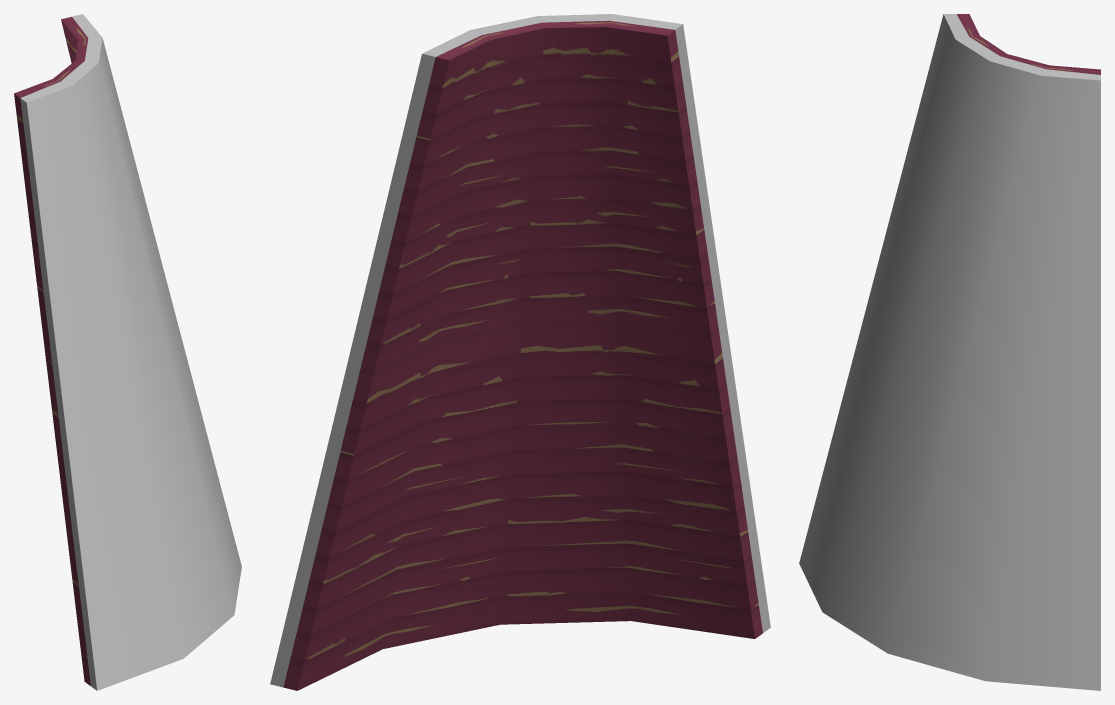
The model's file is SM_Bld_Wall_Curved_M_Transition_01.fbx.
3 renders of one model, left to right at view 1: azimuth 30°, elevation 25°; view 2: azimuth 150°, elevation 25°; view 3: azimuth 270°, elevation 25°, orthographic. The views are drawn at different scales.
Visible parts, largest first — view 1: SM_Bld_Wall_Curved_M_Transition_01; view 2: SM_Bld_Wall_Curved_M_Transition_01; view 3: SM_Bld_Wall_Curved_M_Transition_01.
Part boxes in pixels (x1,y1,x2,y2): SM_Bld_Wall_Curved_M_Transition_01: [14, 14, 241, 690]; SM_Bld_Wall_Curved_M_Transition_01: [270, 14, 770, 690]; SM_Bld_Wall_Curved_M_Transition_01: [799, 14, 1100, 690].
Bounding box in the file's own units: 261 × 526 × 261.
